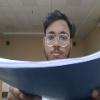notebook: (0, 47, 99, 99)
